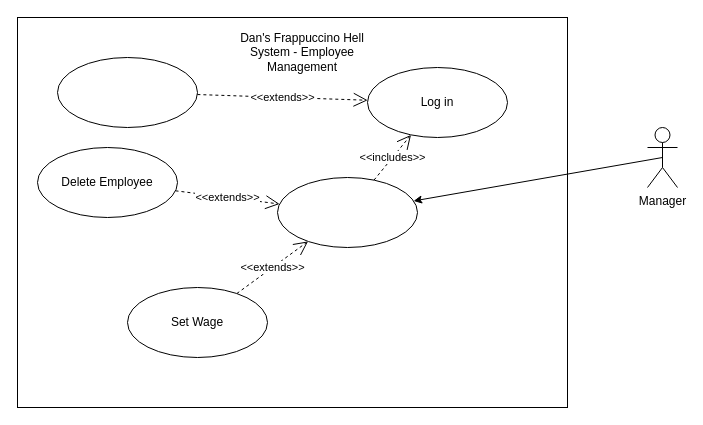
Image size: 703x425. Some labels were removed from this diagram. Each missing label, with the centre of its shape:
Add Employee: (x=347, y=212)
Create Account: (x=127, y=92)
